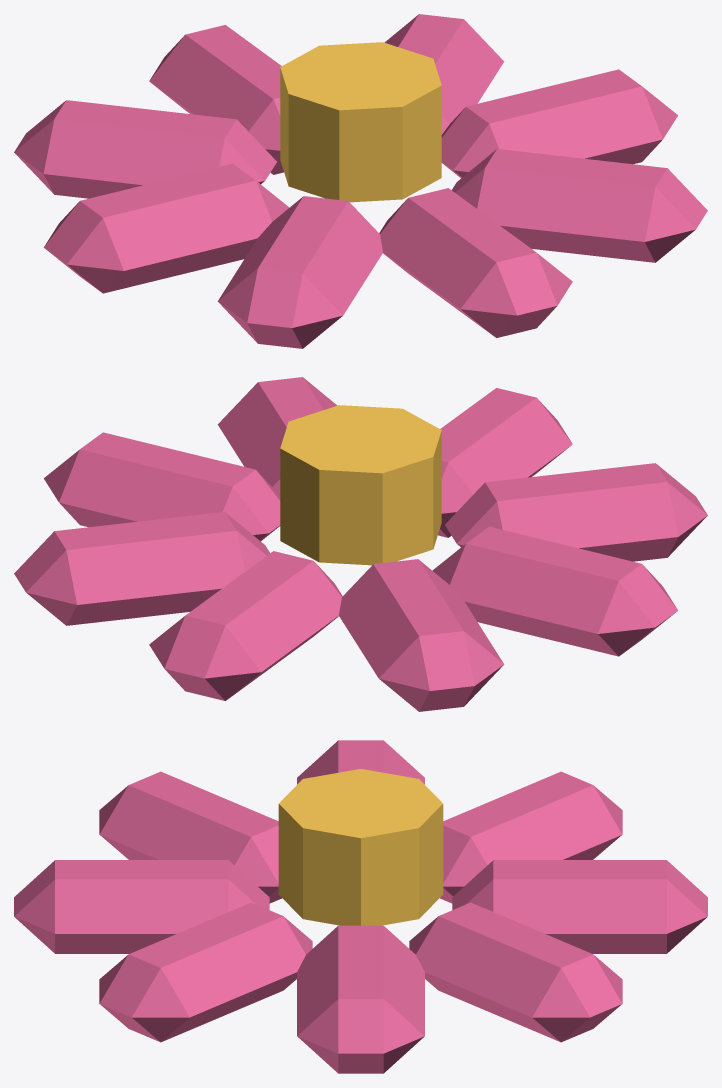
The picture shows the model from 3 angles, top to bottom: view 1: azimuth 30°, elevation 25°; view 2: azimuth 150°, elevation 25°; view 3: azimuth 270°, elevation 25°; orthographic projection.
Parts seen in each view (by area): view 1: Lotus center, Offering lotus petal.007, Offering lotus petal.004, Offering lotus petal.003, Offering lotus petal.005, Offering lotus petal.006, Offering lotus petal, Offering lotus petal.002, Offering lotus petal.001; view 2: Lotus center, Offering lotus petal.001, Offering lotus petal.004, Offering lotus petal.005, Offering lotus petal.003, Offering lotus petal.002, Offering lotus petal, Offering lotus petal.006, Offering lotus petal.007; view 3: Lotus center, Offering lotus petal.002, Offering lotus petal.006, Offering lotus petal.001, Offering lotus petal.007, Offering lotus petal, Offering lotus petal.003, Offering lotus petal.005, Offering lotus petal.004.
Boxes of the visible parts, x1,y1,x2,y2 form: Lotus center: (280, 42, 441, 202); Offering lotus petal.007: (452, 149, 707, 262); Offering lotus petal.004: (44, 163, 289, 293); Offering lotus petal.003: (14, 100, 276, 198); Offering lotus petal.005: (217, 196, 382, 348); Offering lotus petal.006: (379, 188, 572, 337); Offering lotus petal: (441, 69, 677, 178); Offering lotus petal.002: (149, 25, 283, 174); Offering lotus petal.001: (384, 14, 504, 134); Lotus center: (280, 405, 441, 565); Offering lotus petal.001: (14, 512, 269, 625); Offering lotus petal.004: (432, 526, 677, 656); Offering lotus petal.005: (445, 463, 707, 561); Offering lotus petal.003: (339, 559, 504, 711); Offering lotus petal.002: (149, 551, 342, 700); Offering lotus petal: (44, 432, 280, 541); Offering lotus petal.006: (438, 388, 572, 537); Offering lotus petal.007: (217, 377, 337, 497); Lotus center: (278, 769, 443, 925); Offering lotus petal.002: (452, 860, 707, 953); Offering lotus petal.006: (14, 860, 269, 953); Offering lotus petal.001: (409, 902, 622, 1042); Offering lotus petal.007: (99, 902, 312, 1042); Offering lotus petal: (297, 925, 424, 1073); Offering lotus petal.003: (440, 771, 622, 903); Offering lotus petal.005: (99, 771, 281, 903); Offering lotus petal.004: (297, 740, 424, 784).
Bounding box in the file's own units: 0.38 × 0.085 × 0.38.
Materials: 1 (1 with a texture image).
